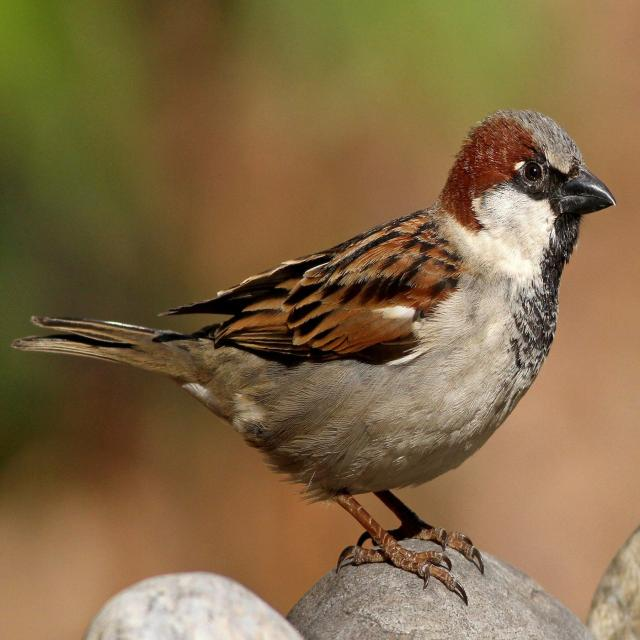Sparrow: (29, 90, 622, 576)
